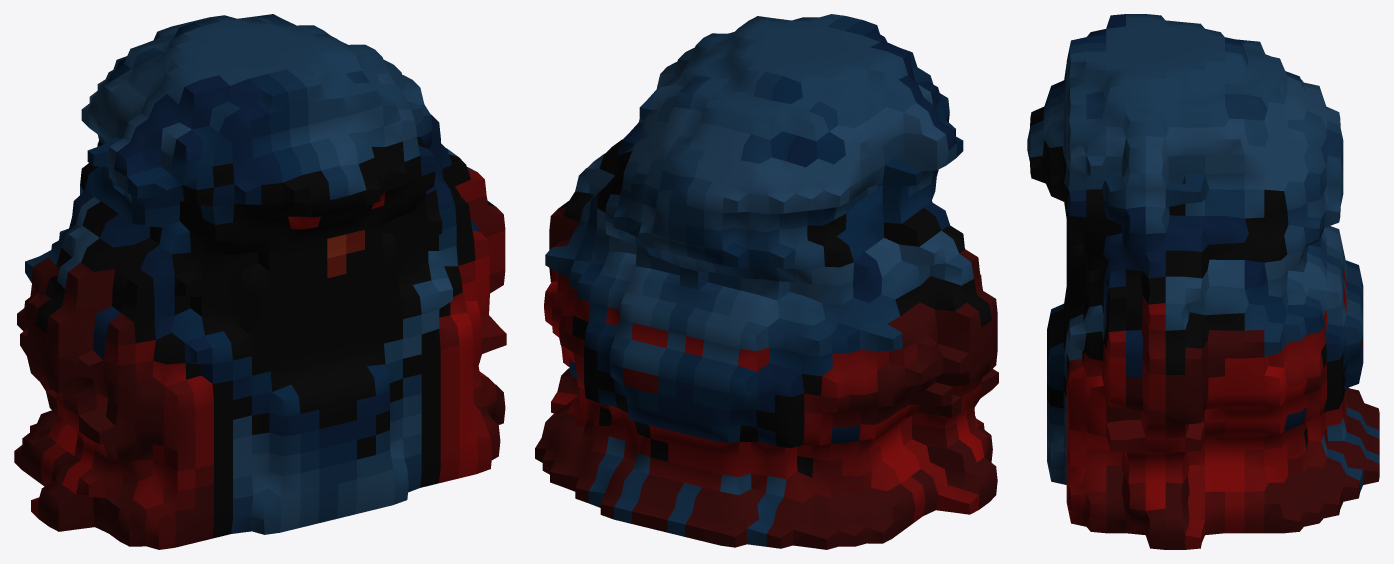
File: Icon_709_03.obj
The picture shows the model from 3 angles, left to right: view 1: azimuth 30°, elevation 25°; view 2: azimuth 150°, elevation 25°; view 3: azimuth 270°, elevation 25°; orthographic projection. The views are drawn at different scales.
Bounding box in the file's own units: 2.4 × 2.2 × 1.78.
